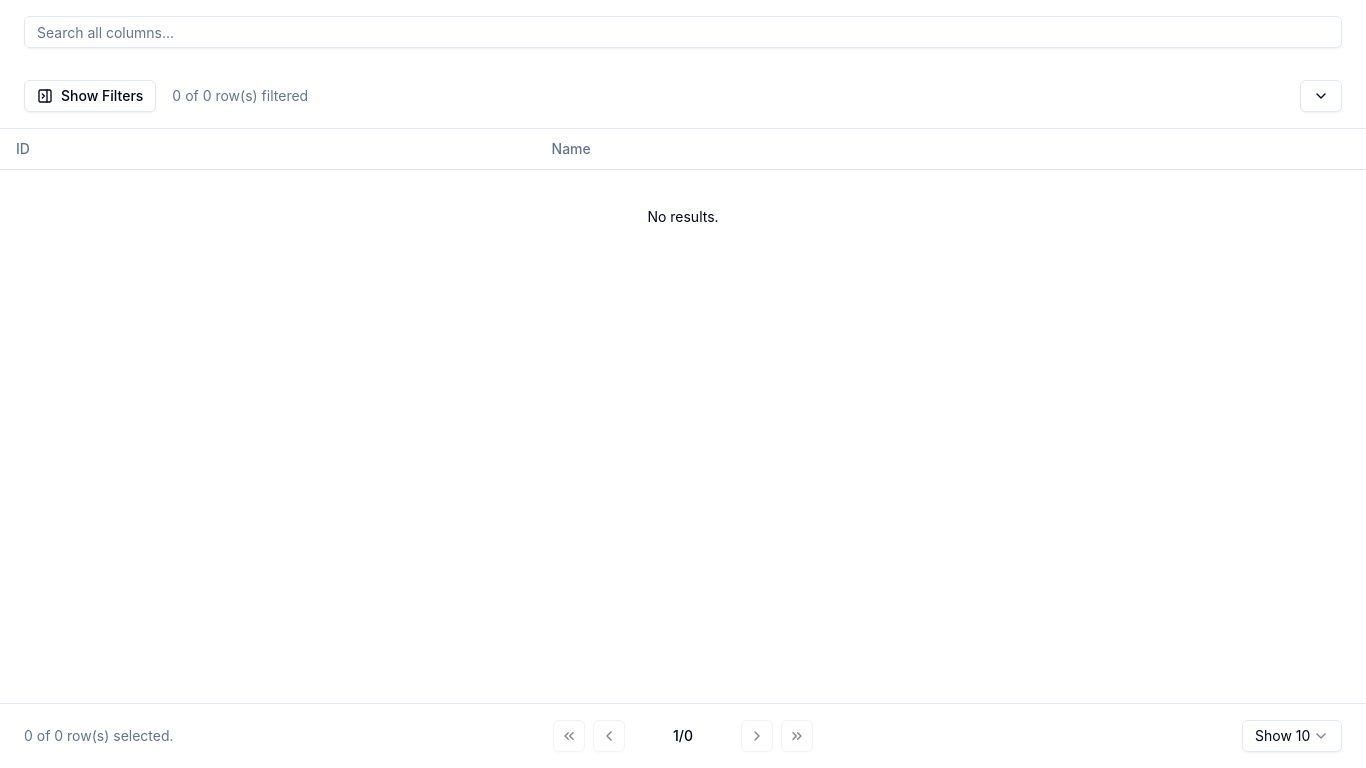
Test: DataGrid empty dataset › opens sidebar with no rows and shows fallback message (no inference)
This screenshot has width=1366, height=768.
Click the button "Show Filters". click: (90, 96)
box: x1=24 y1=80 x2=156 y2=112
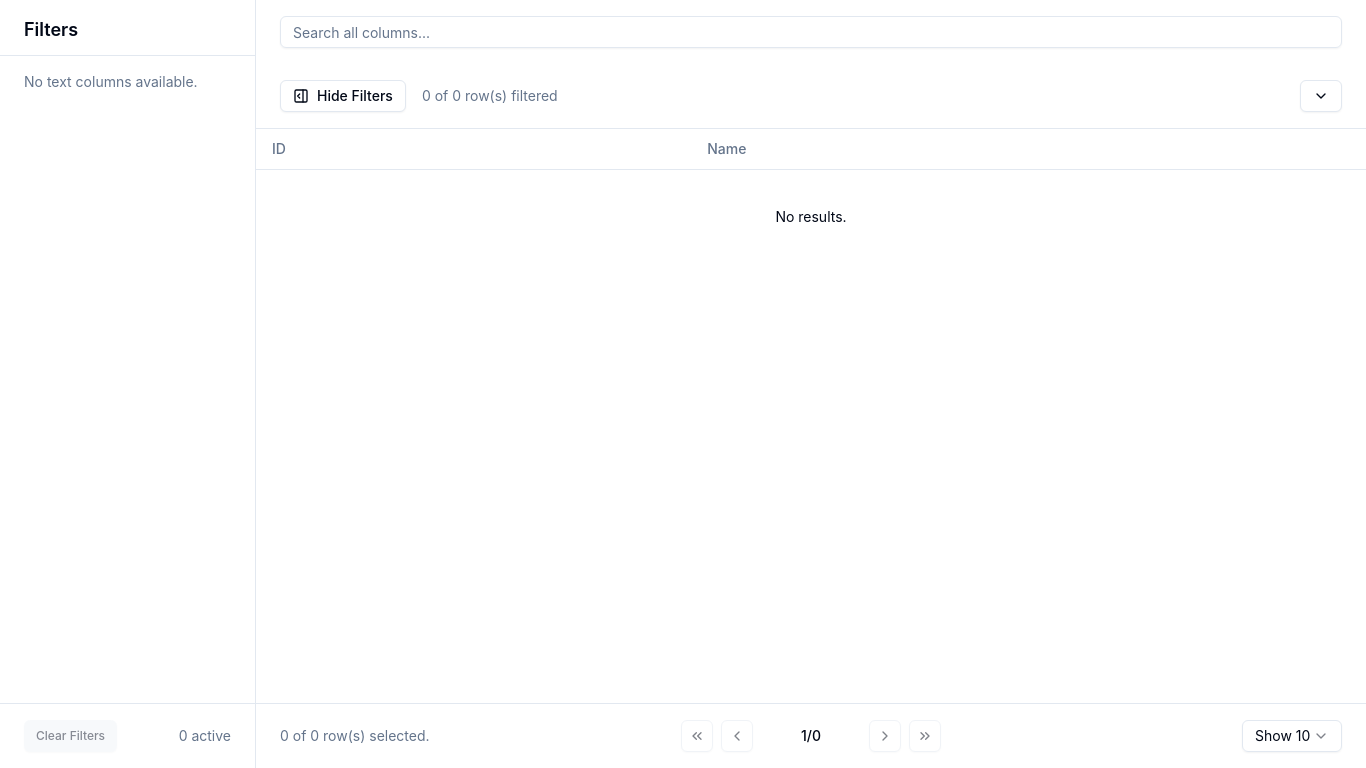
Result: the text "No text columns available." is shown at x1=24 y1=73 x2=198 y2=90
Result: the text "0 active" is shown at x1=179 y1=726 x2=231 y2=746
